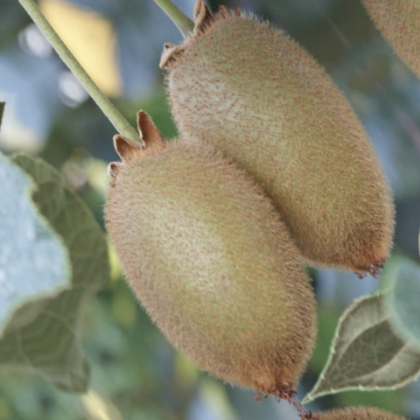kiwi: (43, 74, 376, 420), (119, 0, 420, 322)
